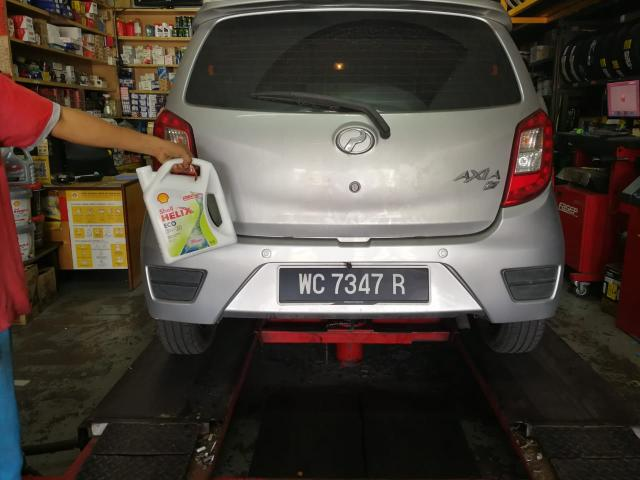License_Plate: (278, 266, 432, 306)
car: (145, 3, 570, 356)
